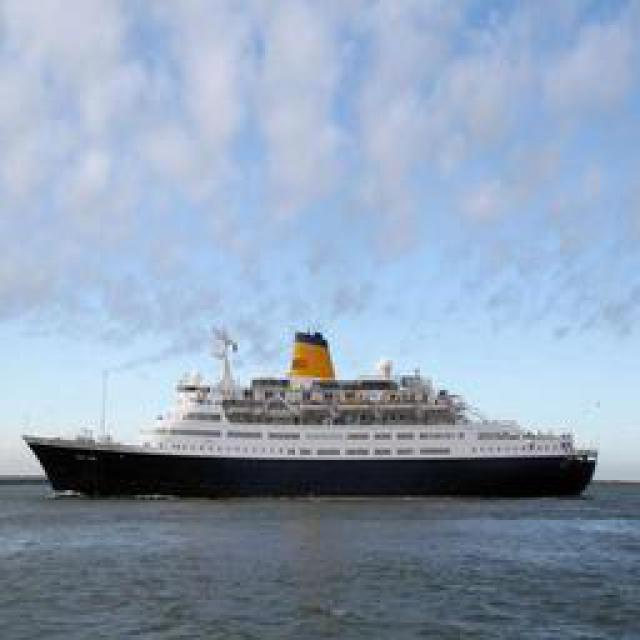Ship: (22, 324, 622, 499)
